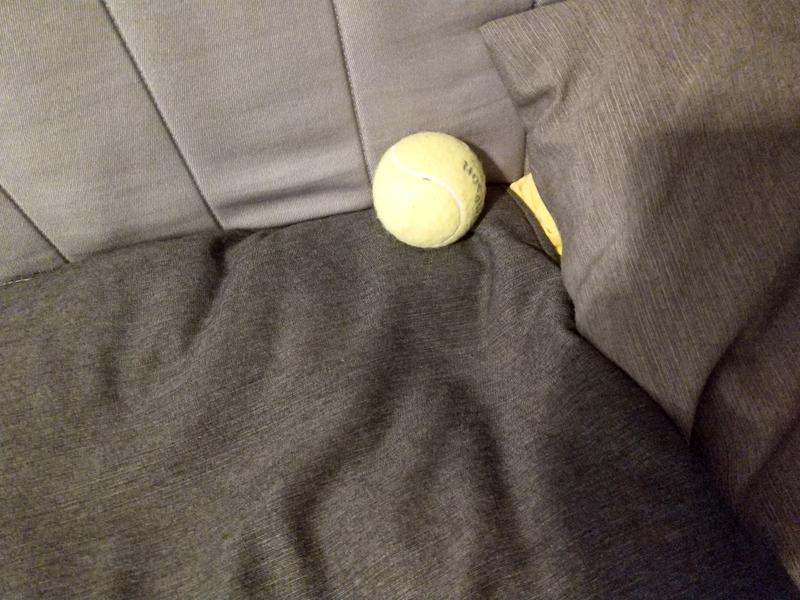Tennisball: (367, 128, 488, 253)
